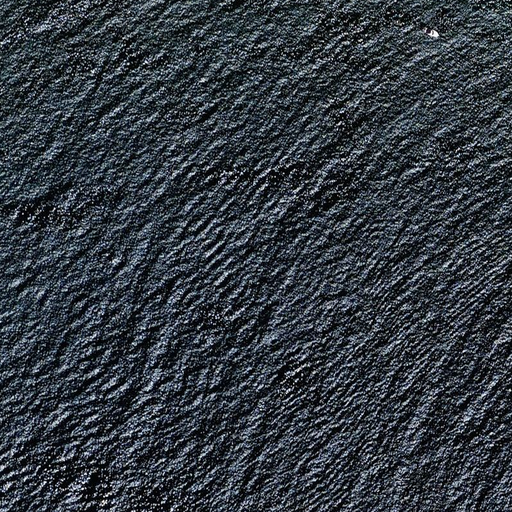ship: (428, 27, 438, 39)
